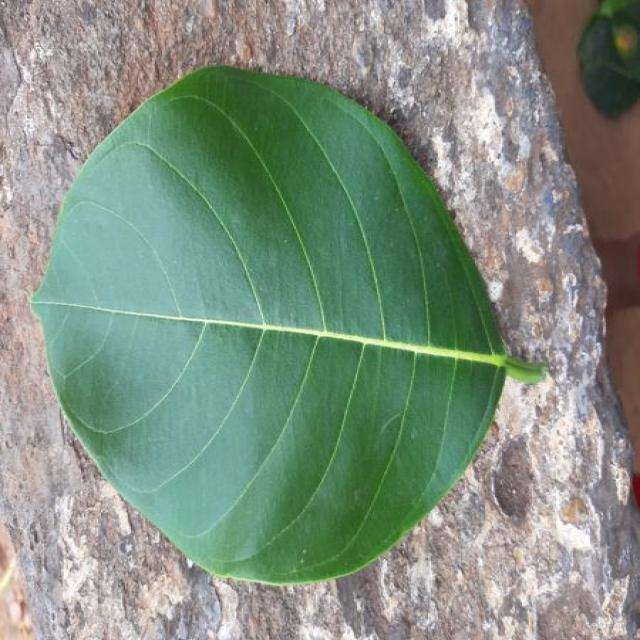Jackfruit: (33, 66, 547, 584)
